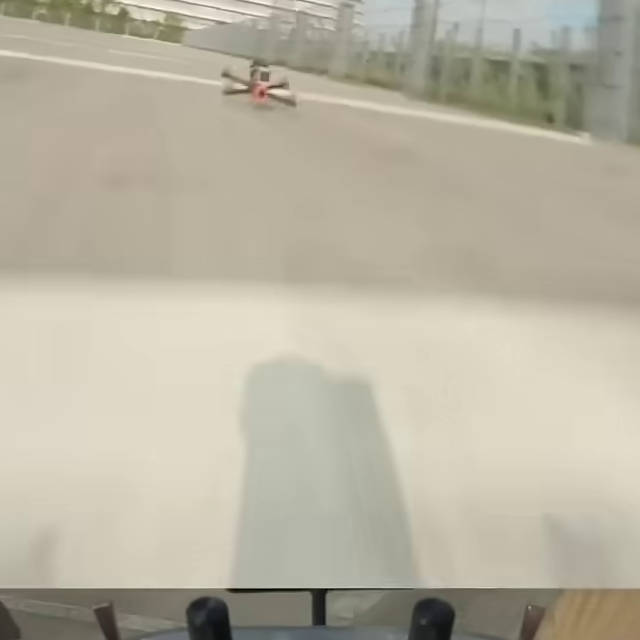drone: (215, 57, 299, 110)
